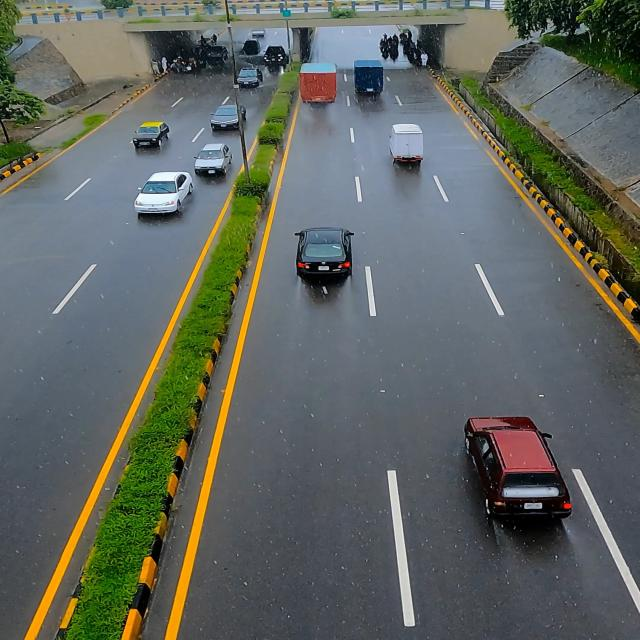Car: (453, 411, 563, 535), (293, 230, 354, 286), (130, 171, 192, 221), (295, 63, 335, 106), (387, 122, 422, 170), (347, 58, 385, 100), (192, 140, 230, 180), (127, 116, 169, 152), (204, 102, 249, 135)
